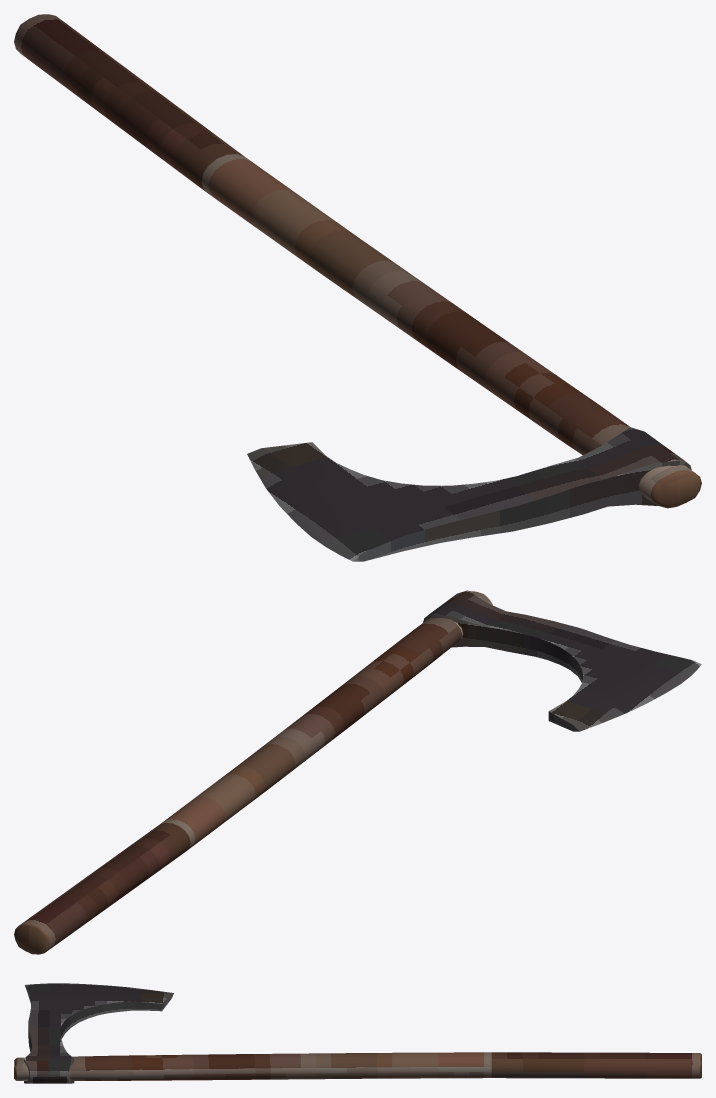
The model's file is AxeIron.fbx.
3 renders of one model, top to bottom at view 1: azimuth 30°, elevation 25°; view 2: azimuth 150°, elevation 25°; view 3: azimuth 270°, elevation 25°, orthographic. The views are drawn at different scales.
Parts seen in each view (by area): view 1: Viking_Axe; view 2: Viking_Axe; view 3: Viking_Axe.
Boxes of the visible parts, x1=… form: Viking_Axe: x1=14, y1=14, x2=701, y2=561; Viking_Axe: x1=14, y1=590, x2=701, y2=954; Viking_Axe: x1=14, y1=983, x2=701, y2=1083.
Size of the model in its own units: 0.2832 by 0.0347 by 0.8795.
1 material, 1 textured.
